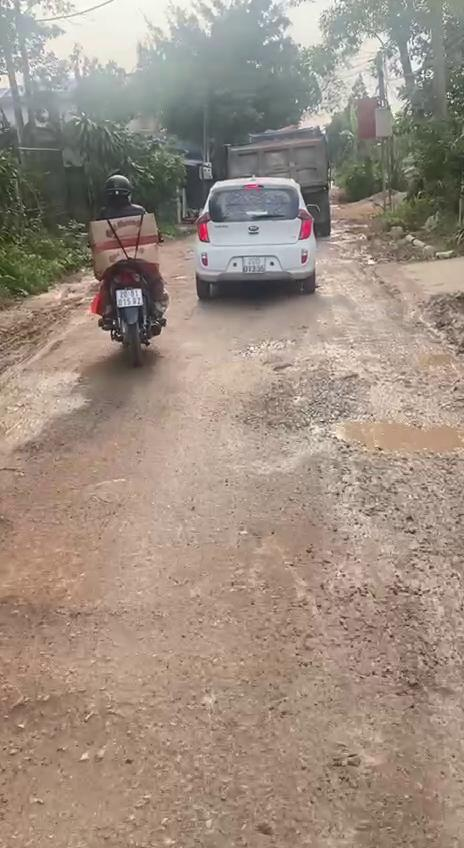pothole: (0, 684, 154, 848), (238, 352, 464, 460)
